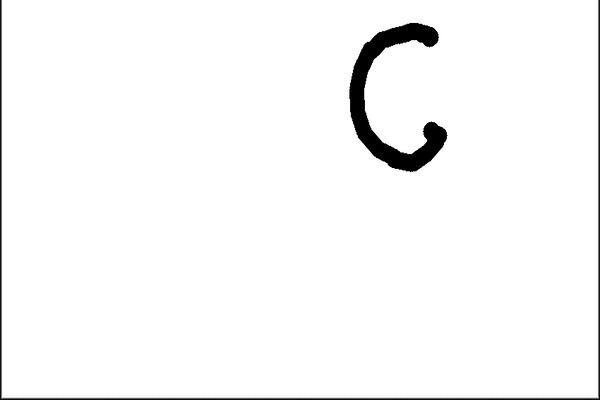C: (346, 14, 451, 174)
